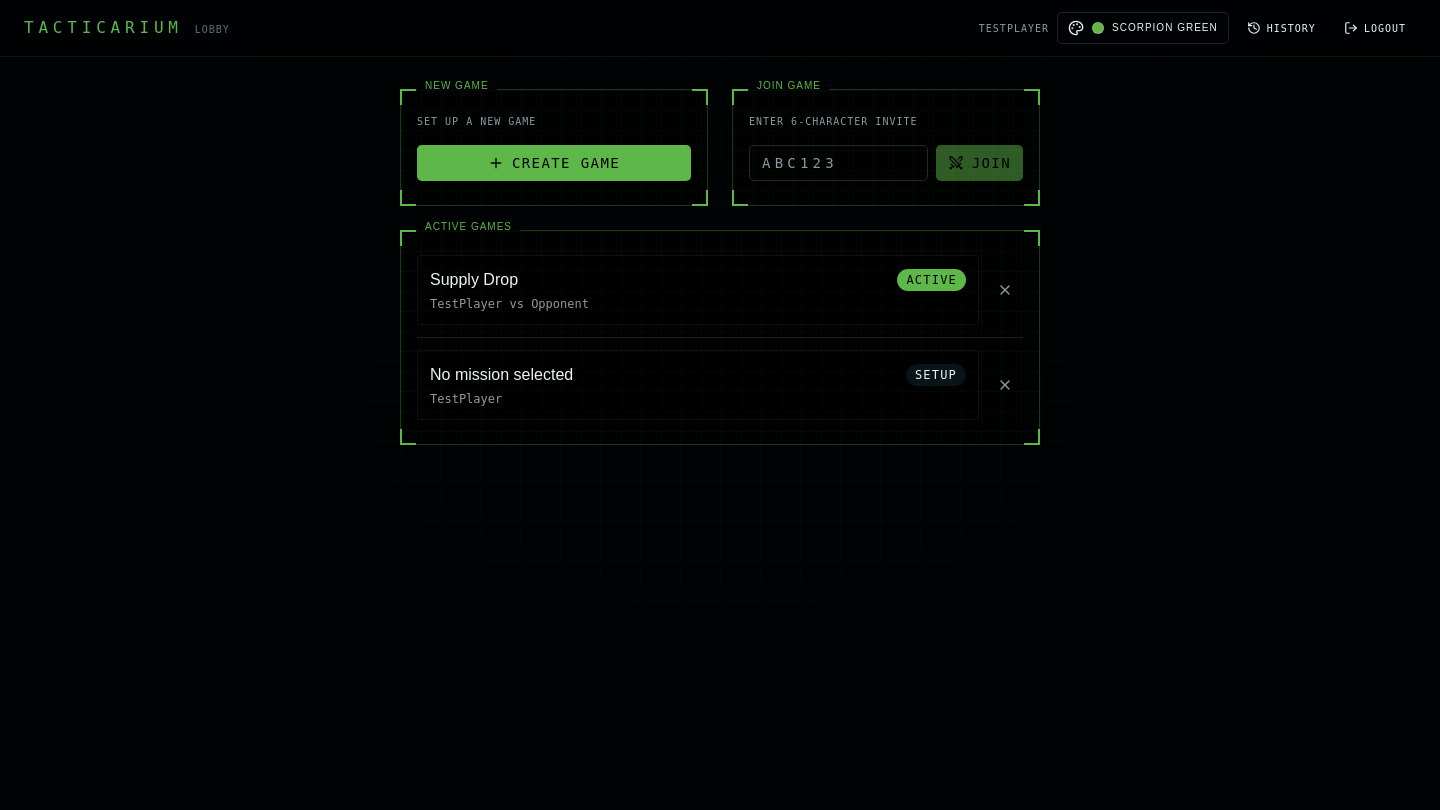
LobbyPage - Remove Game › shows confirmation modal when remove button is clicked
Expected: the text "Supply Drop" is shown, x1=430 y1=268 x2=518 y2=292
Click the 1st button named "Remove game". click: (1005, 290)
box: x1=987 y1=272 x2=1023 y2=308
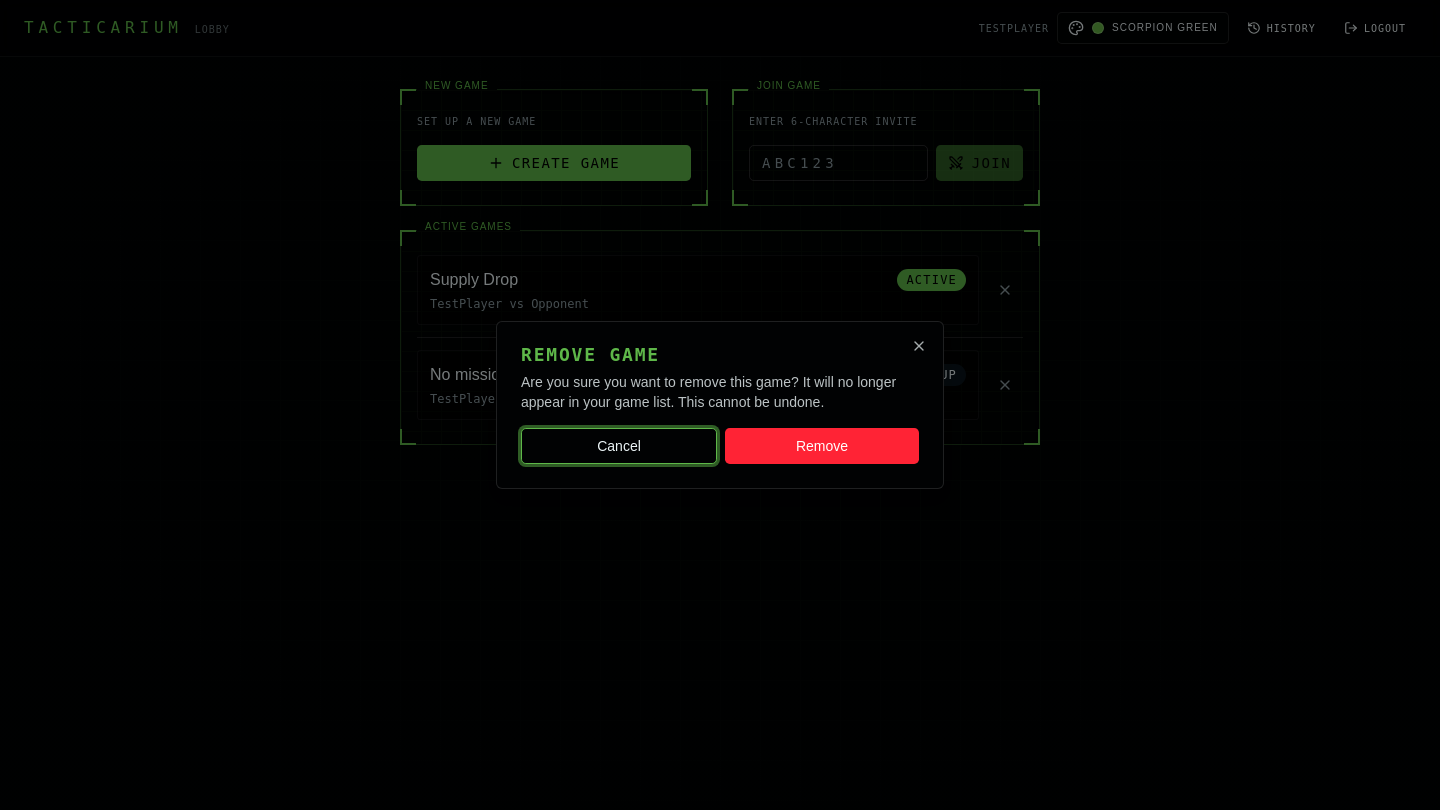
Now the heading "Remove Game" is shown, box x1=521 y1=344 x2=660 y2=365
Now the text "Are you sure you want to remove this game" is shown, box x1=521 y1=374 x2=896 y2=410
Now the button "Remove" is shown, box x1=725 y1=428 x2=919 y2=464
